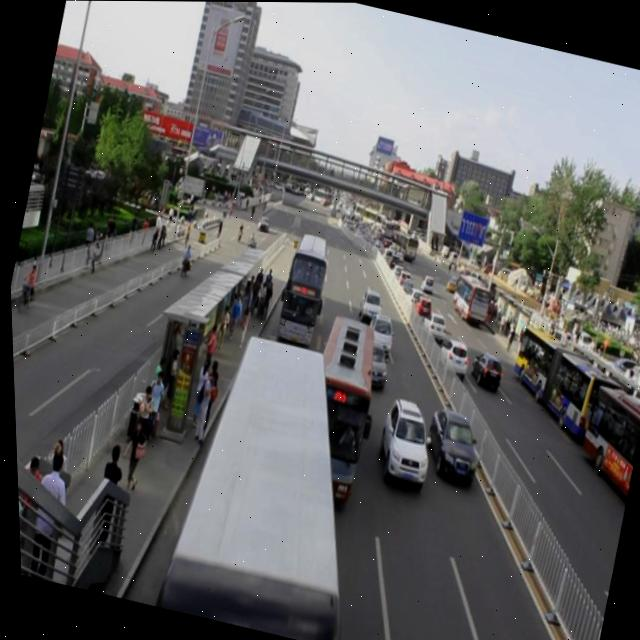car: (361, 391, 439, 493), (410, 397, 487, 487), (349, 330, 393, 392), (356, 306, 399, 355), (349, 281, 385, 326)
van: (134, 314, 409, 640), (275, 305, 397, 510), (262, 223, 340, 345)
